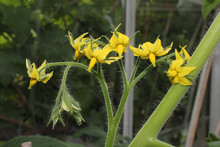tomato: (23, 19, 205, 144)
